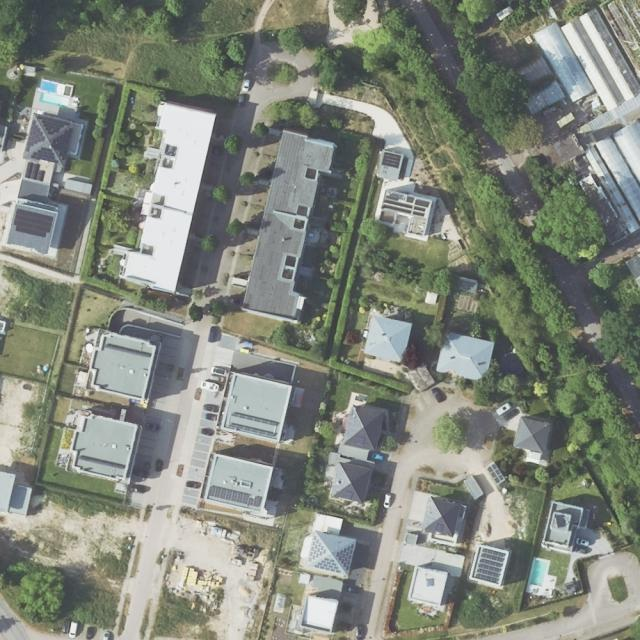PV: (228, 409, 280, 438), (208, 485, 263, 507), (475, 548, 506, 584), (52, 125, 73, 163), (383, 199, 425, 217), (36, 115, 71, 136), (26, 119, 47, 153), (334, 542, 354, 572), (307, 534, 326, 561), (312, 557, 341, 574), (30, 147, 59, 164), (24, 160, 45, 182), (486, 463, 505, 484), (381, 151, 401, 169)
ST: (12, 208, 53, 237), (555, 515, 567, 527), (354, 435, 365, 448), (435, 522, 444, 533), (344, 490, 353, 501)
